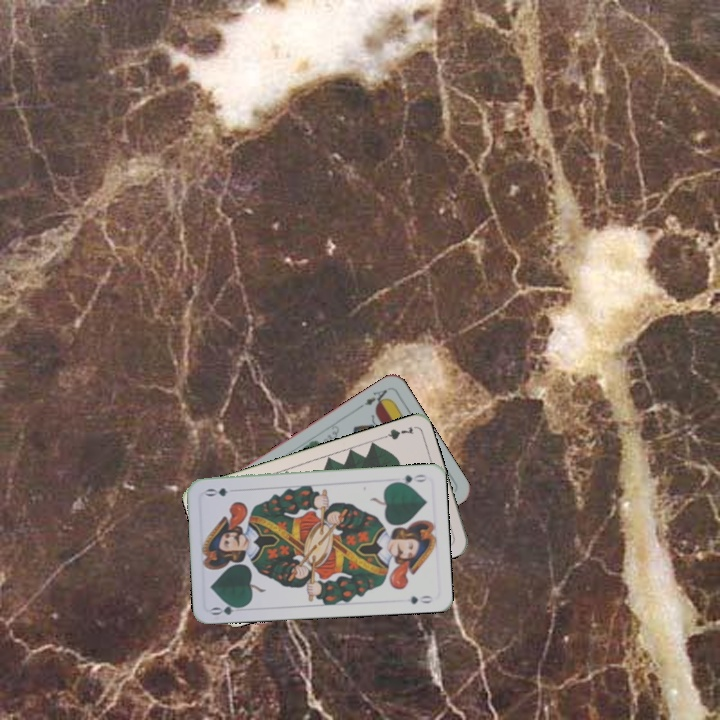EA: (360, 385, 392, 409)
G7: (376, 422, 416, 442)
GO: (207, 599, 248, 618), (389, 470, 430, 488)
